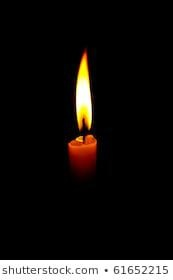fire: (73, 45, 93, 136)
